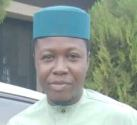without_facemask: (36, 67, 93, 103)
